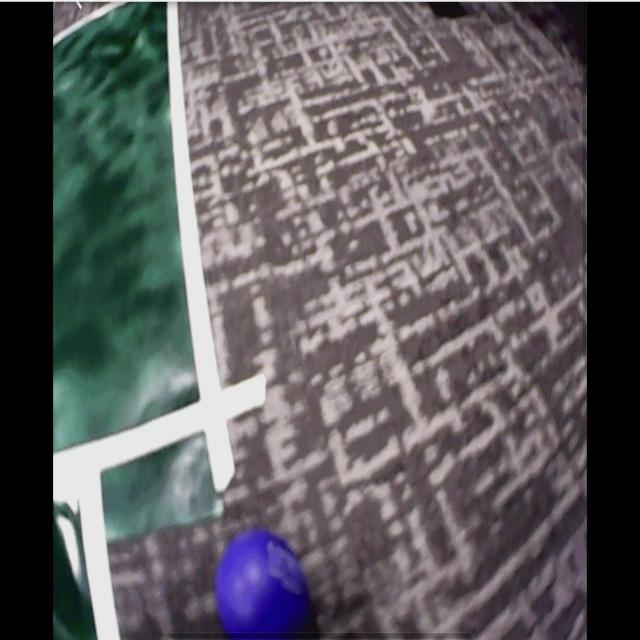ball: (219, 536, 310, 636)
